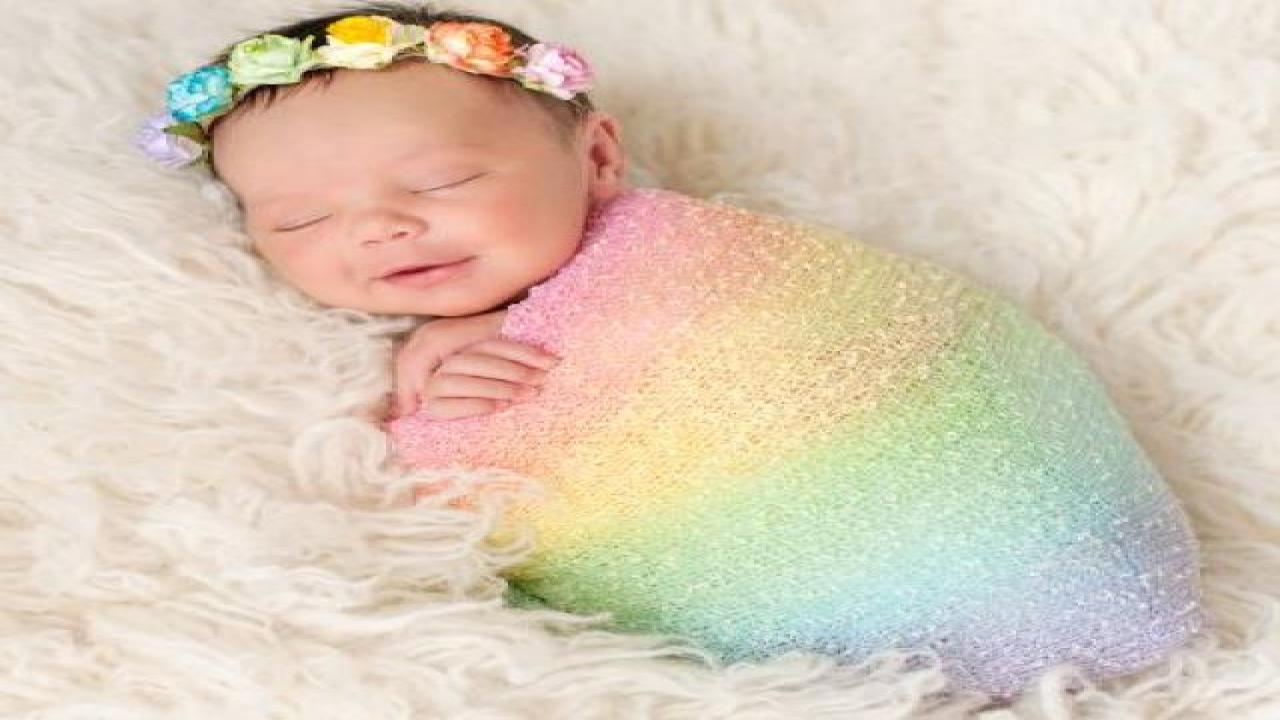hand: (417, 341, 563, 426)
